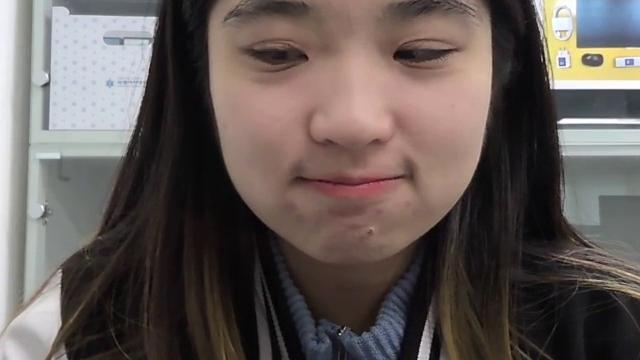eye: (394, 47, 415, 67), (264, 48, 284, 67)
iris: (254, 45, 307, 65), (393, 43, 448, 62)
